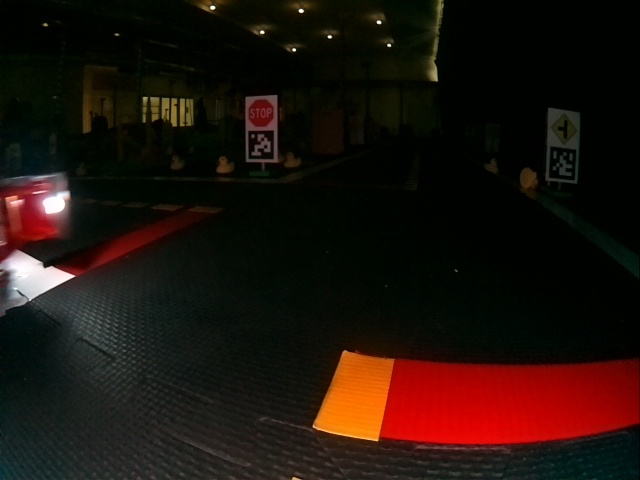Duckie: (216, 156, 234, 174), (521, 169, 535, 188), (483, 158, 499, 173), (285, 151, 300, 166), (170, 155, 181, 169)
Duckiebot: (2, 170, 75, 258)
Intersection sign: (550, 114, 577, 145)
QR code: (548, 150, 577, 180), (247, 129, 274, 161)
Stop sign: (247, 99, 275, 126)
